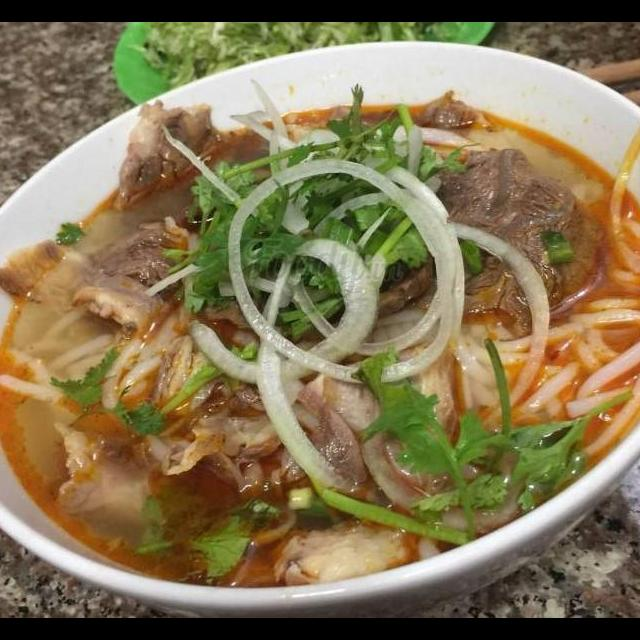bun: (373, 250, 640, 470), (0, 297, 181, 438)
bun bo: (0, 78, 640, 602)
thit bo: (29, 413, 260, 592), (420, 140, 614, 343), (178, 364, 368, 511), (0, 217, 214, 341), (100, 87, 253, 225)
